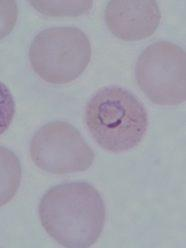Infected: (87, 87, 149, 150)
Uninfected: (41, 182, 104, 248), (30, 28, 92, 84), (133, 39, 186, 104), (32, 122, 93, 172), (103, 1, 159, 42)
